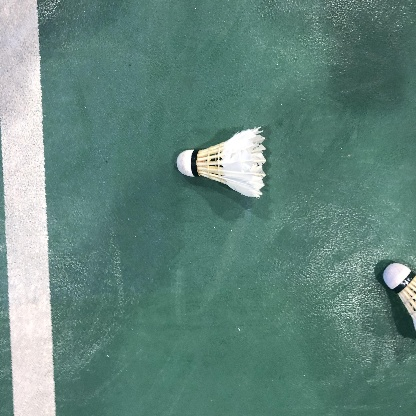ball_single: (176, 127, 266, 197), (383, 263, 416, 332)
